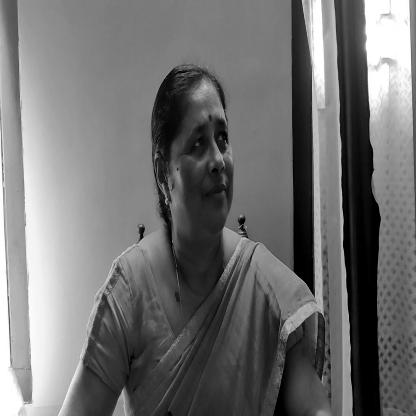Distracted: (159, 66, 244, 245)
